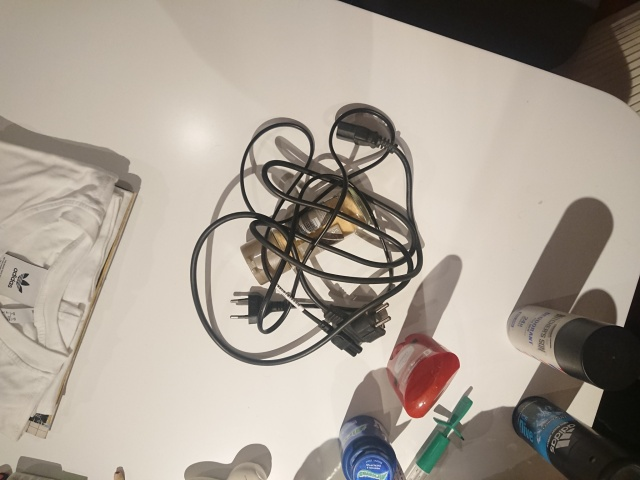Kotanyi Garlic Granules 70g: (238, 186, 373, 287)
